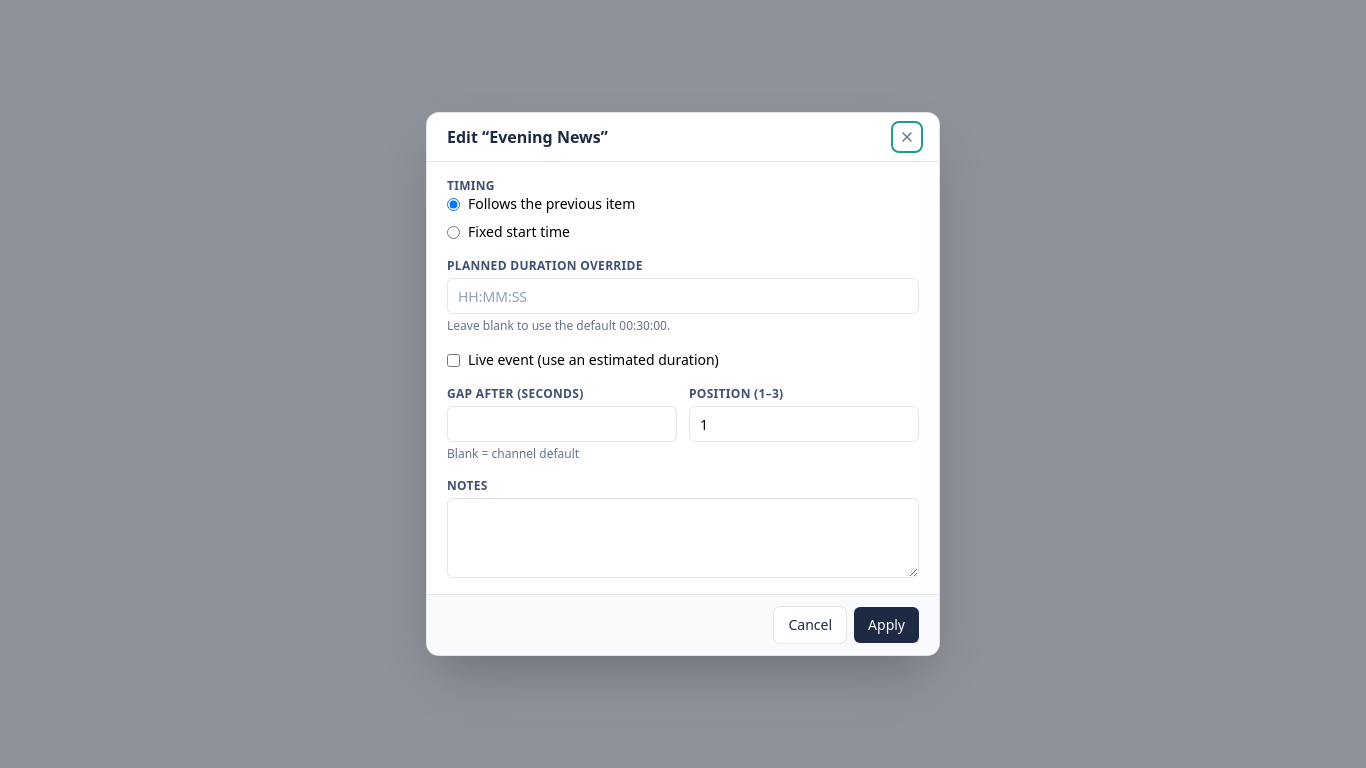
Test: ItemDialog › validates input and reports errors accessibly
Type "00:00:00" into the field labelled "Planned duration override" at (683, 296), box [447,278,919,314]
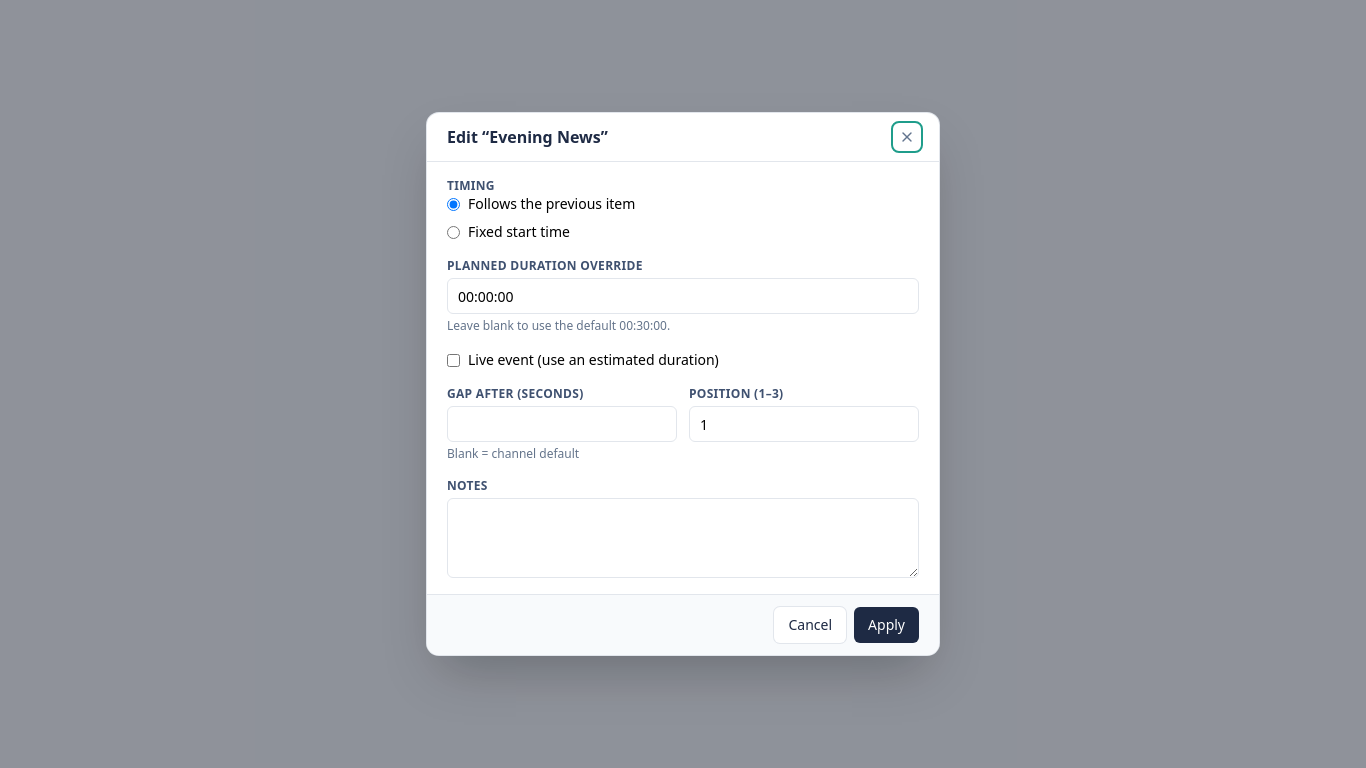
Click the button "Apply" at (887, 625), box [854,607,919,643]
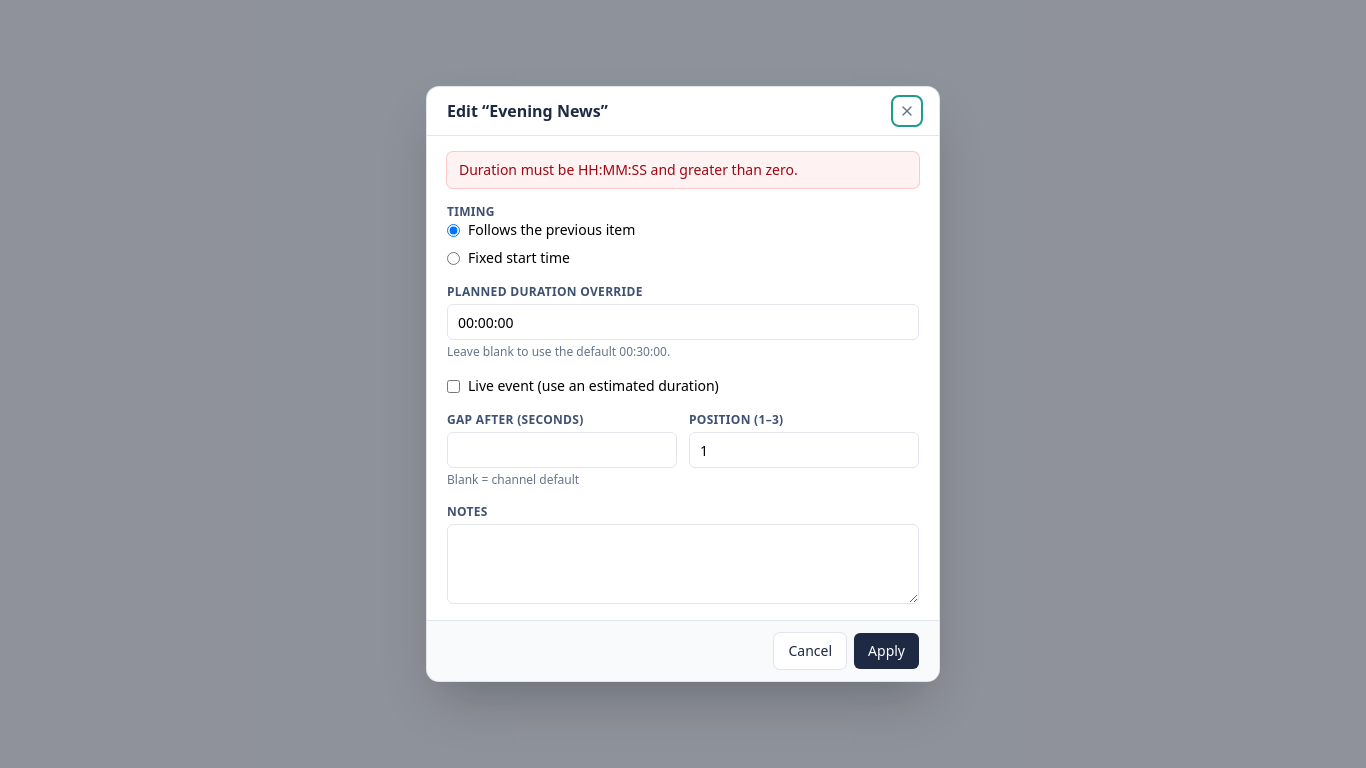
Expected: the message shows "greater than zero", [459,160,798,179]
